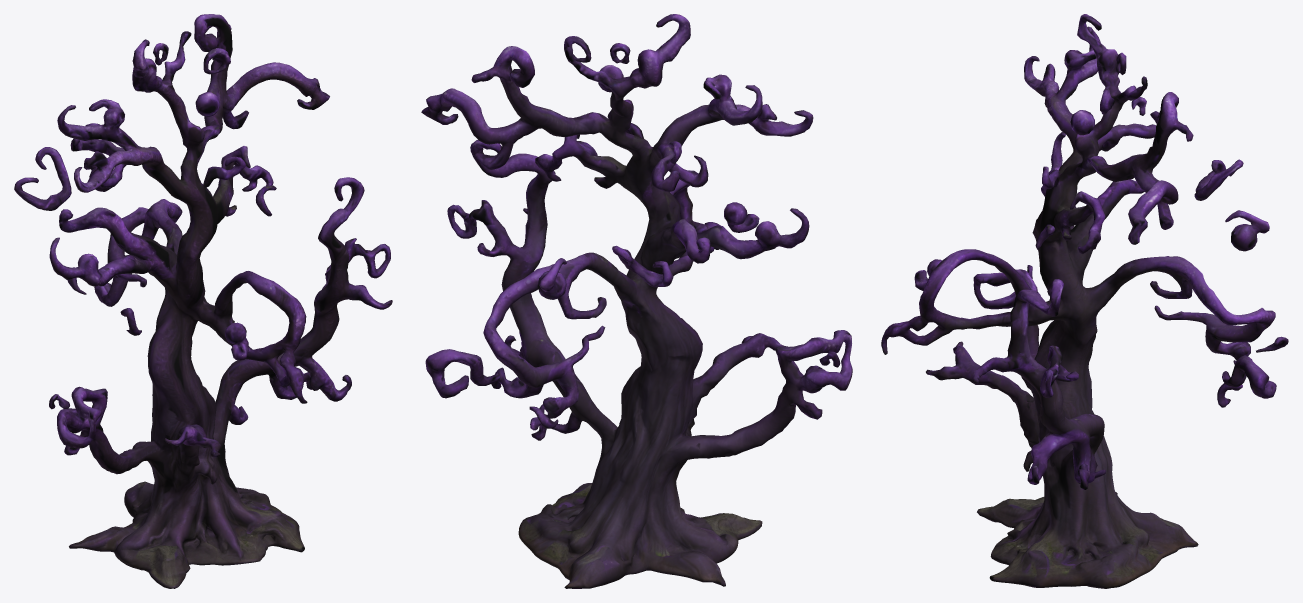
Rendered from AI_TentacleTree.fbx.
3 views of the same model, side by side, from view 1: azimuth 30°, elevation 25°; view 2: azimuth 150°, elevation 25°; view 3: azimuth 270°, elevation 25° (orthographic). The views are drawn at different scales.
Visible parts, largest first — view 1: Mesh1.0; view 2: Mesh1.0; view 3: Mesh1.0.
Part boxes in pixels (box(x1,y1,x2,y2)): Mesh1.0: box(14, 14, 392, 588); Mesh1.0: box(421, 14, 852, 588); Mesh1.0: box(881, 14, 1288, 588).
Size of the model in its own units: 146 by 200 by 144.
1 material, 1 textured.
